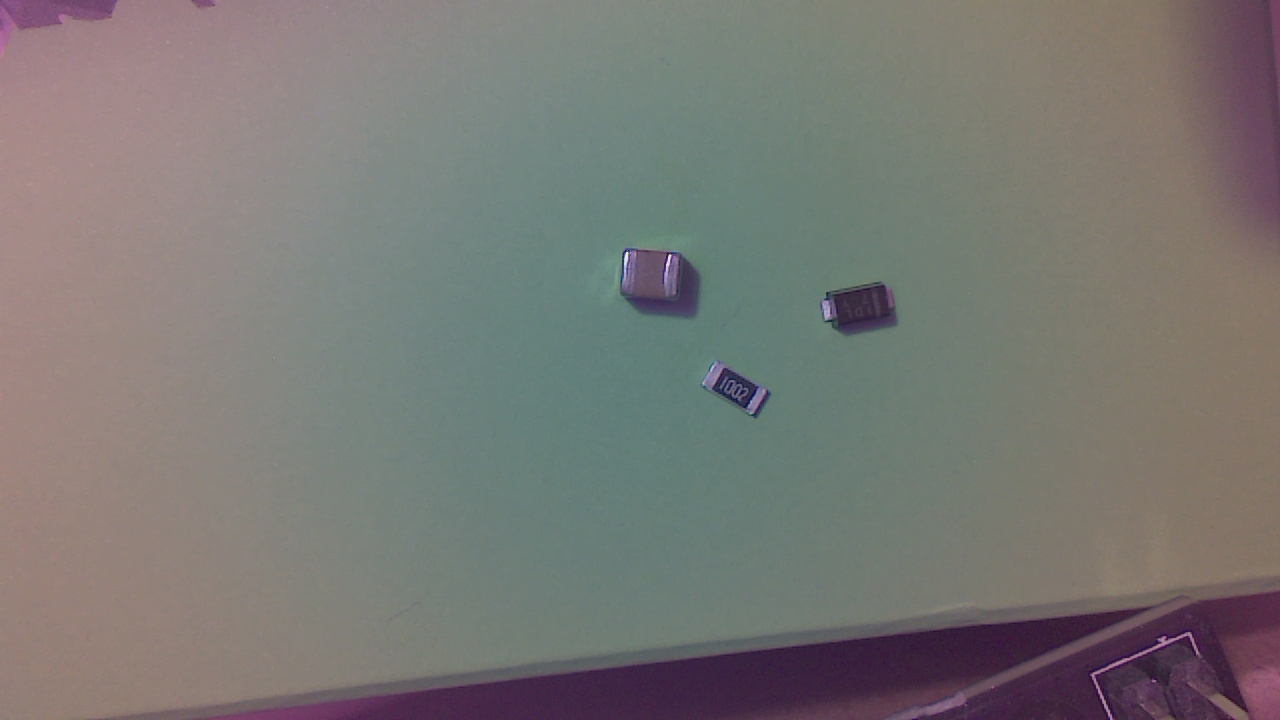Condensator: (625, 250, 691, 311)
Diode: (822, 286, 911, 334)
Resistor: (706, 364, 774, 420)
